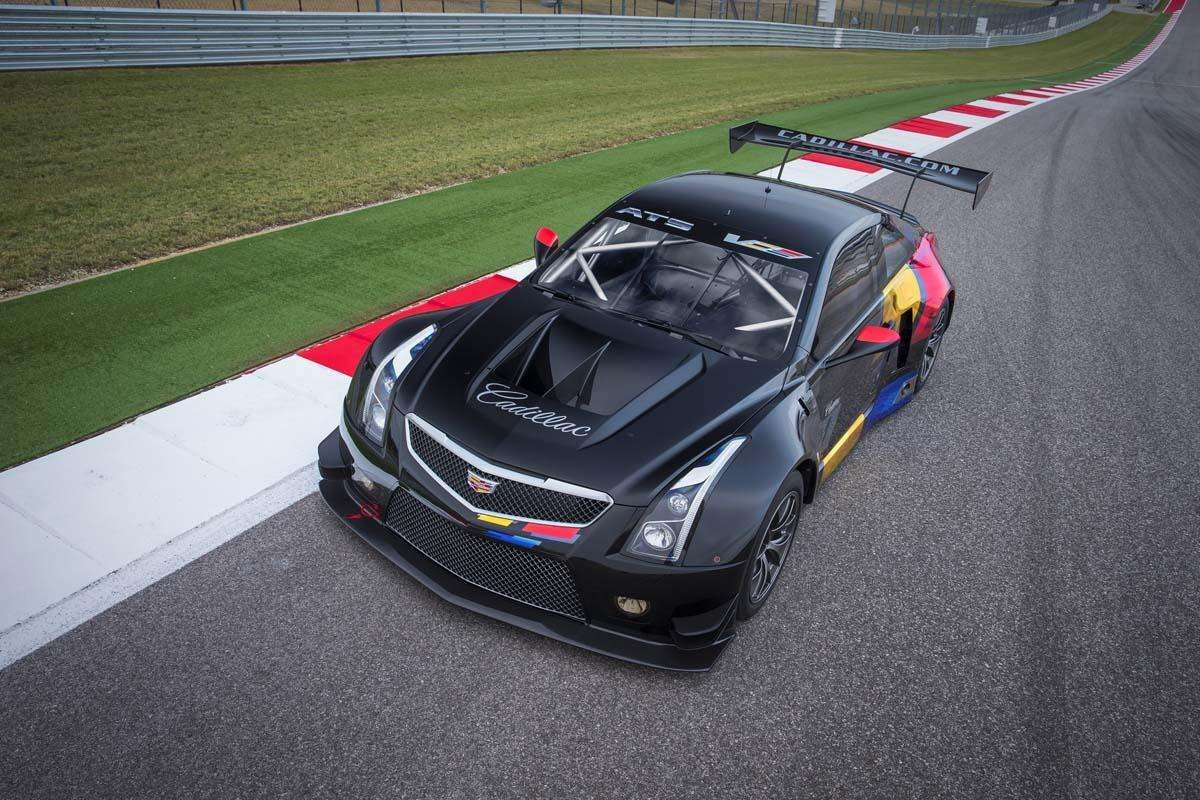racing car: (346, 125, 990, 646)
